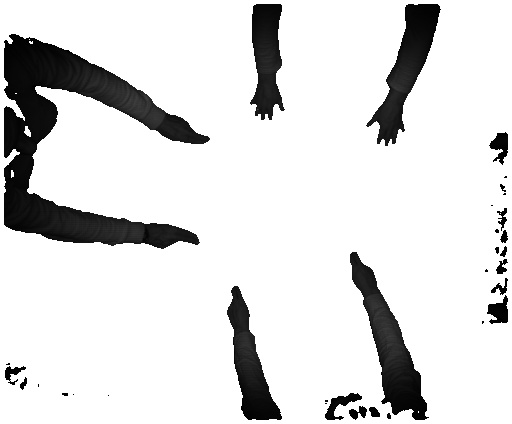hand: (360, 104, 407, 151), (147, 216, 199, 255), (344, 248, 378, 295), (224, 280, 255, 330), (161, 115, 215, 143), (248, 81, 287, 119)
